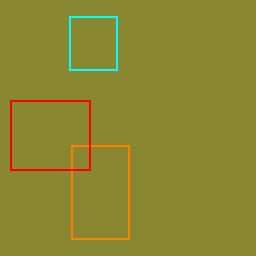Face Mask: (68, 16, 117, 71)
Fire: (10, 100, 90, 171)
Helmet: (70, 144, 130, 240)
